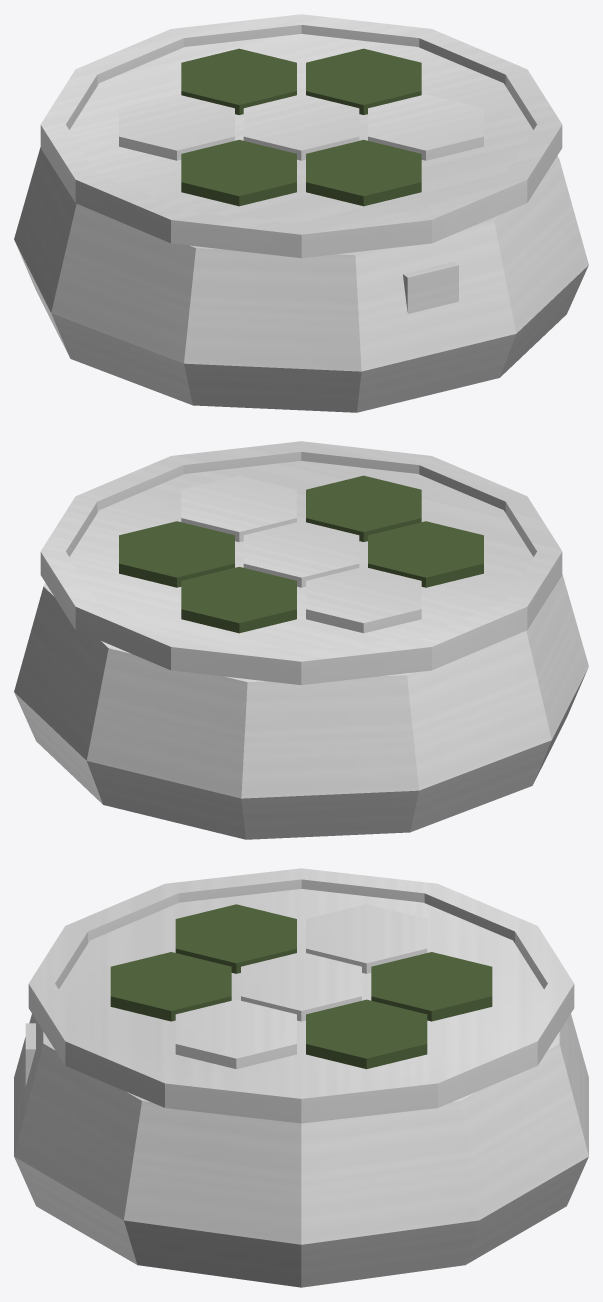
Rendered from countdown.obj.
The picture shows the model from 3 angles, top to bottom: view 1: azimuth 30°, elevation 25°; view 2: azimuth 150°, elevation 25°; view 3: azimuth 270°, elevation 25°; orthographic projection. The views are drawn at different scales.
Visible parts, largest first — view 1: countdown; view 2: countdown; view 3: countdown.
Boxes of the visible parts, x1=… form: countdown: x1=14, y1=14, x2=588, y2=412; countdown: x1=14, y1=441, x2=588, y2=839; countdown: x1=14, y1=868, x2=588, y2=1287.
Bounding box in the file's own units: 0.78 × 0.268 × 0.7418.
